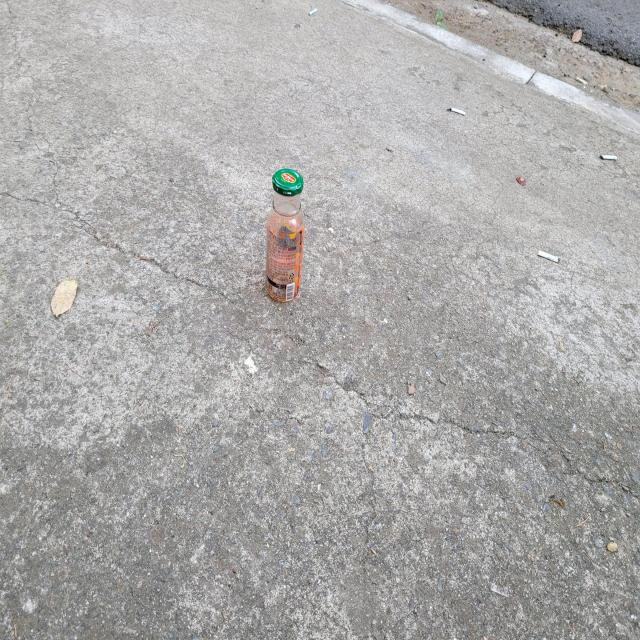glass: (266, 167, 305, 302)
